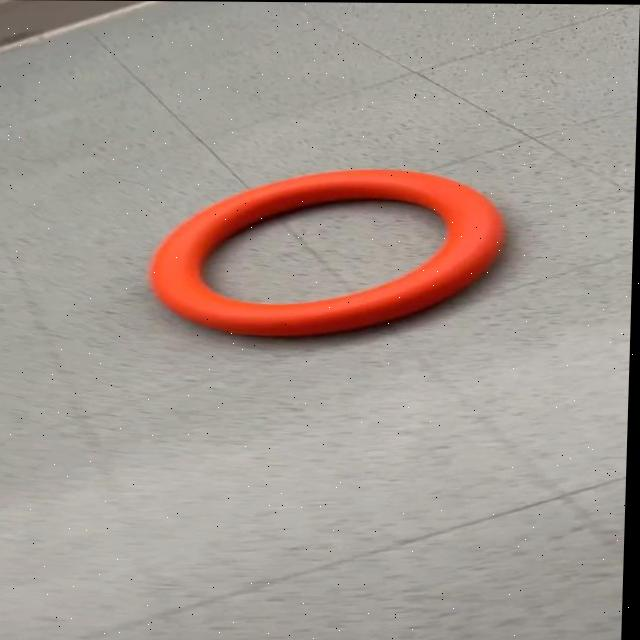note: (148, 165, 510, 339)
